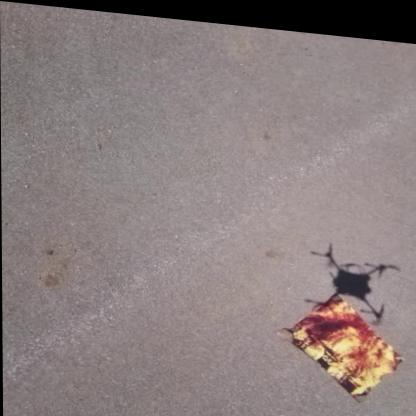fire-poster: (274, 280, 405, 398)
